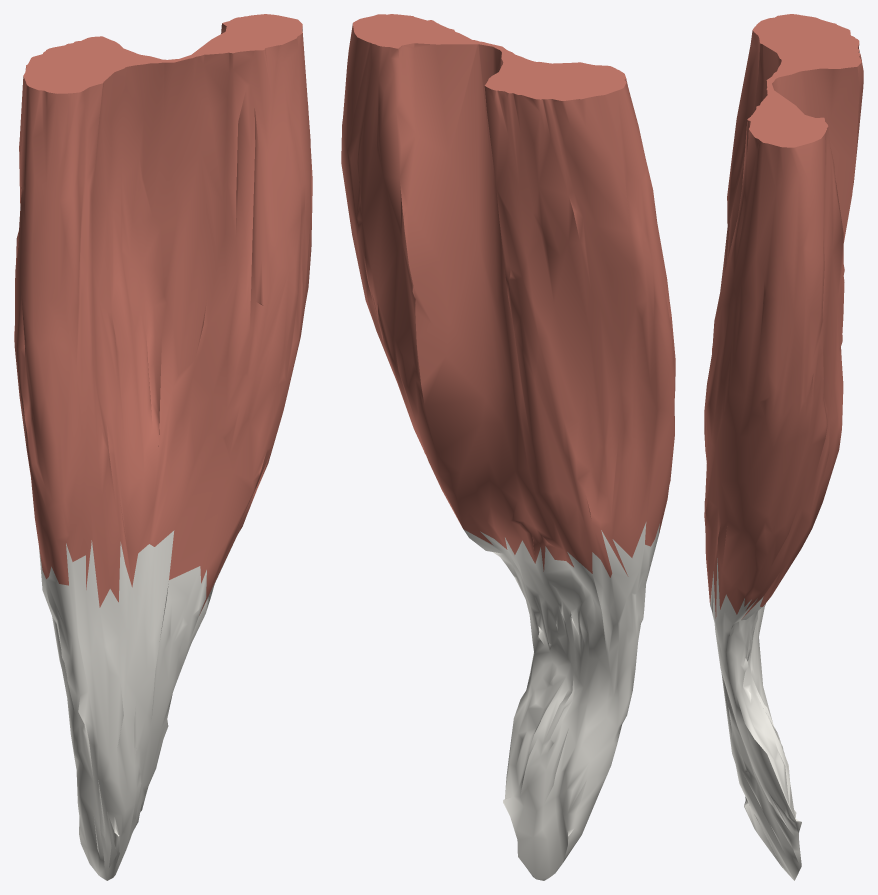
File: brachial.glb
3 renders of one model, left to right at view 1: azimuth 30°, elevation 25°; view 2: azimuth 150°, elevation 25°; view 3: azimuth 270°, elevation 25°, orthographic.
Visible parts, largest first — view 1: brachial; view 2: brachial; view 3: brachial.
Part boxes in pixels (x1=…): brachial: x1=14, y1=14, x2=312, y2=880; brachial: x1=341, y1=14, x2=675, y2=880; brachial: x1=704, y1=14, x2=863, y2=880.
Bounding box in the file's own units: 0.0609 × 0.1548 × 0.0271.
